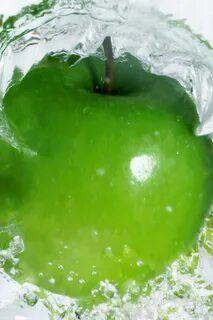Apple: (0, 57, 212, 305)
